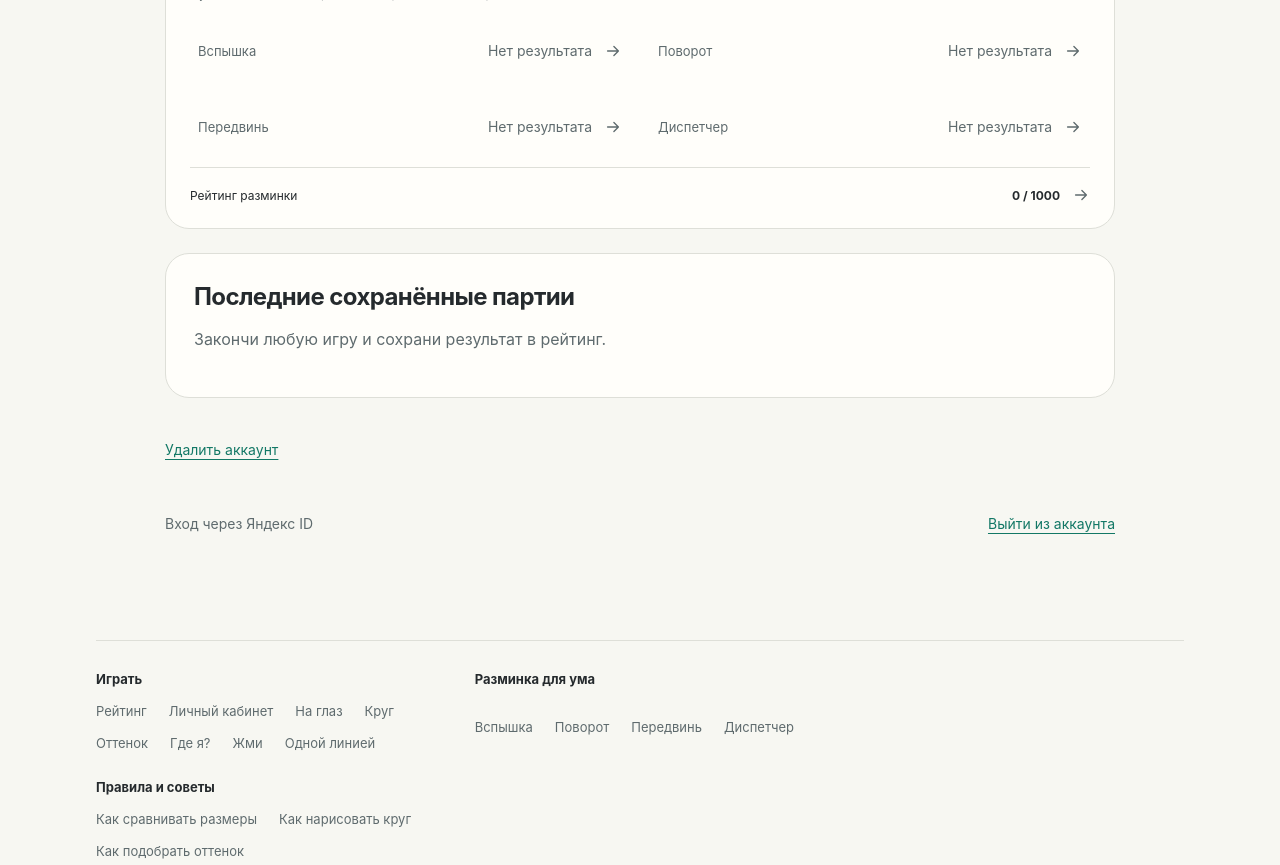
Scenario: Account form feedback › makes deletion an explicit disclosure, rejects missing confirmation locally and restores focus on cancel
The image size is (1280, 865).
(page scrolled)
Click the button "Удалить аккаунт" at x=222, y=450, box x1=165 y1=428 x2=278 y2=472
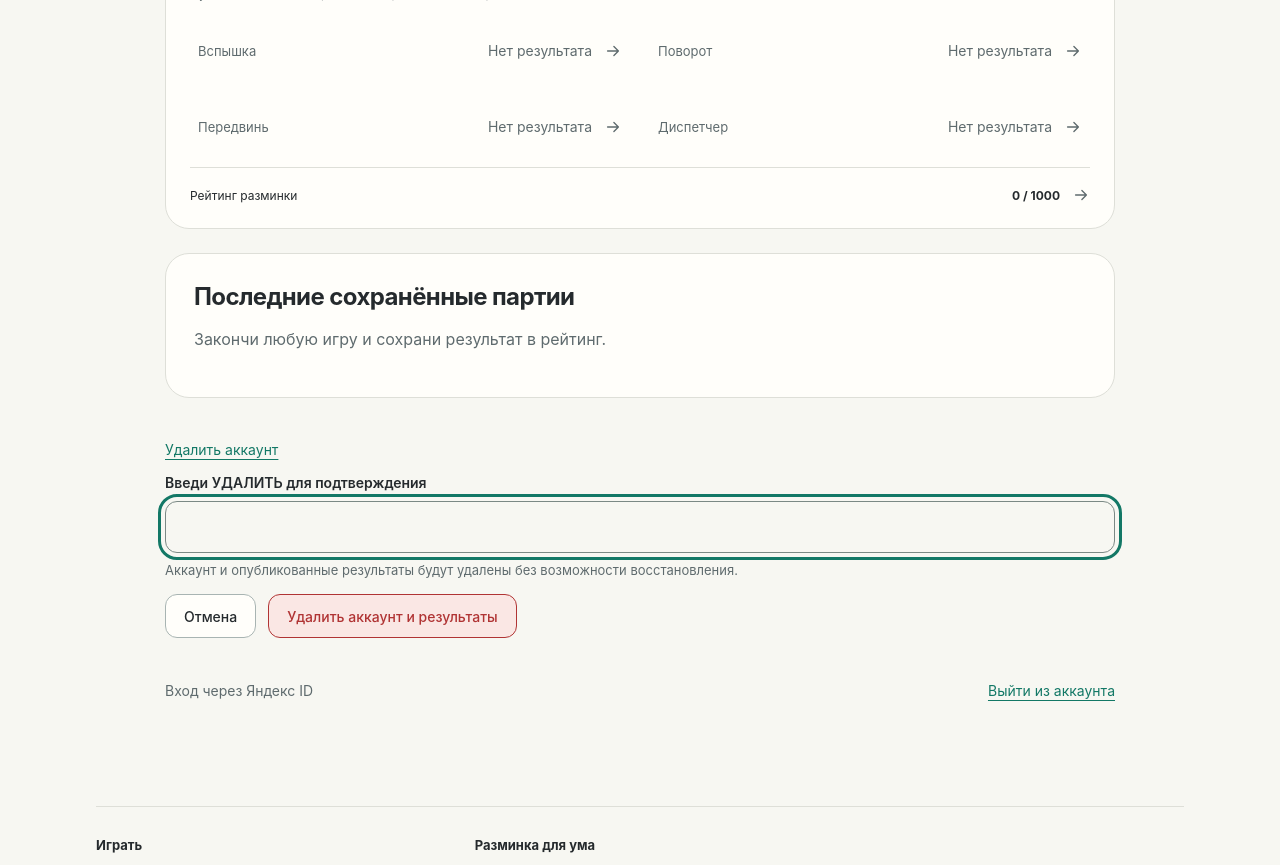
Expected: the button with class "danger-button" reads "Удалить аккаунт и результаты", x1=268 y1=594 x2=517 y2=638
Submit the form with id "delete-account-form", box x1=165 y1=472 x2=1115 y2=638
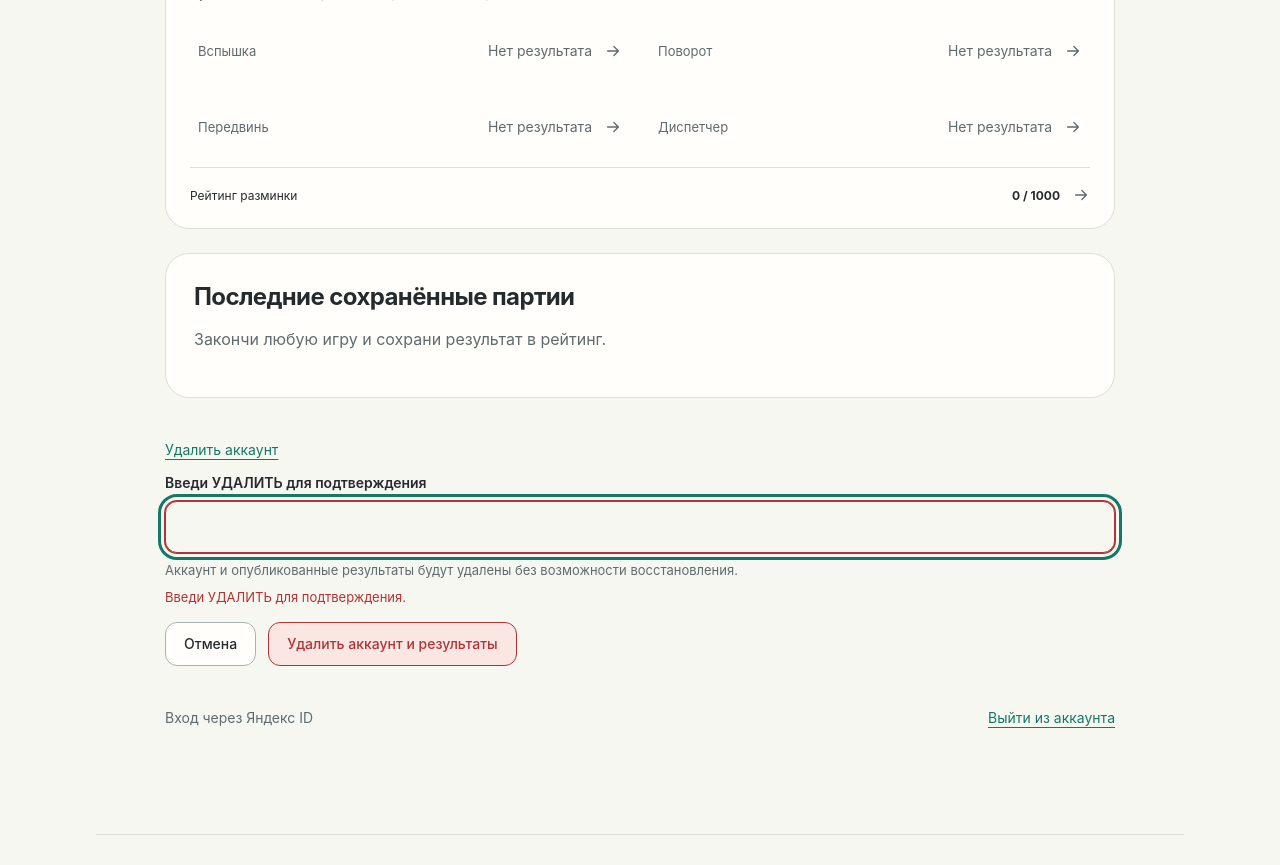
Click the button with class "secondary-button" at x=211, y=644, box x1=165 y1=622 x2=256 y2=666
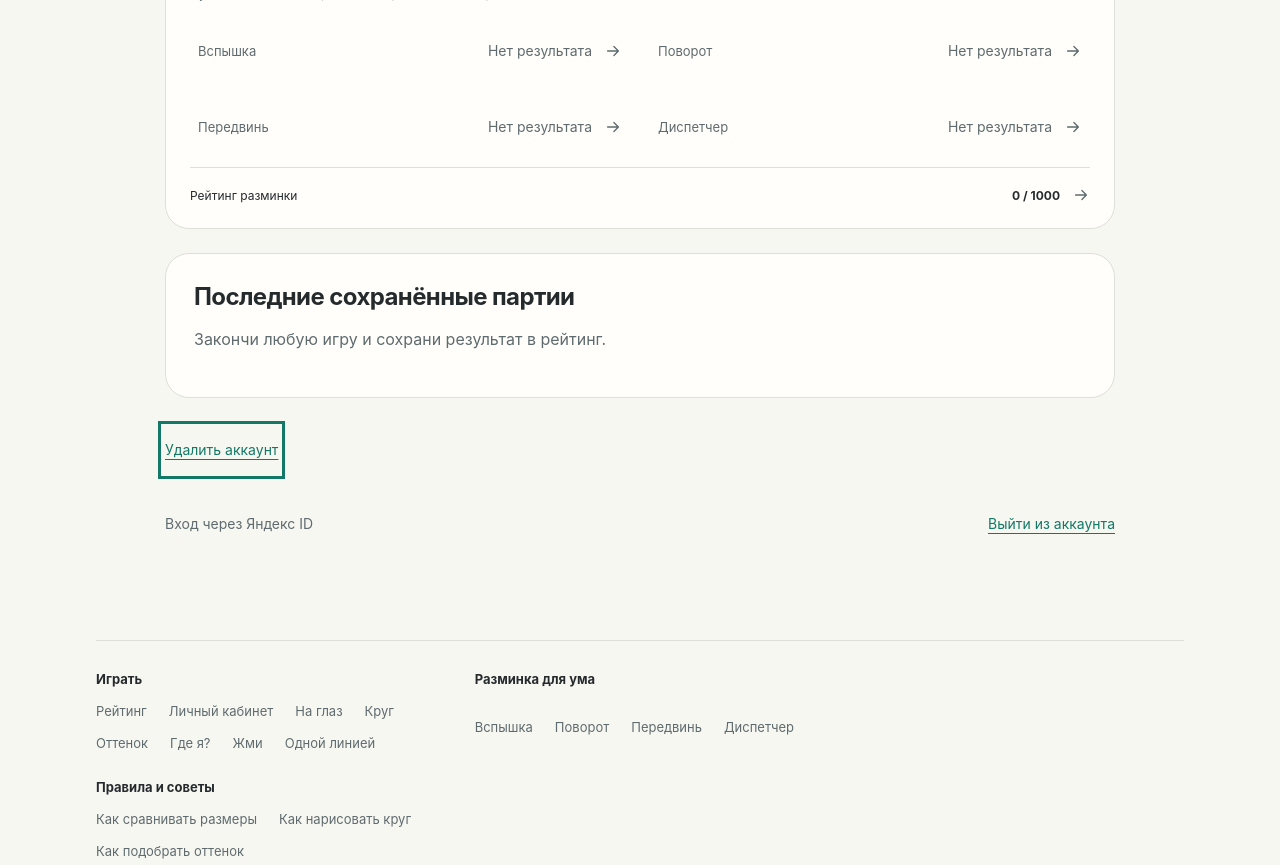
Expected: the form with id "delete-account-form" is gone
